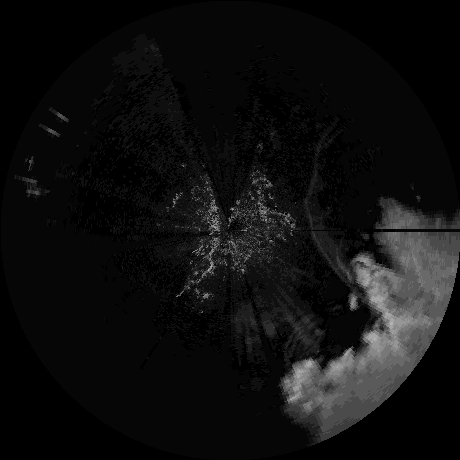frontgust: (304, 171, 353, 285)
